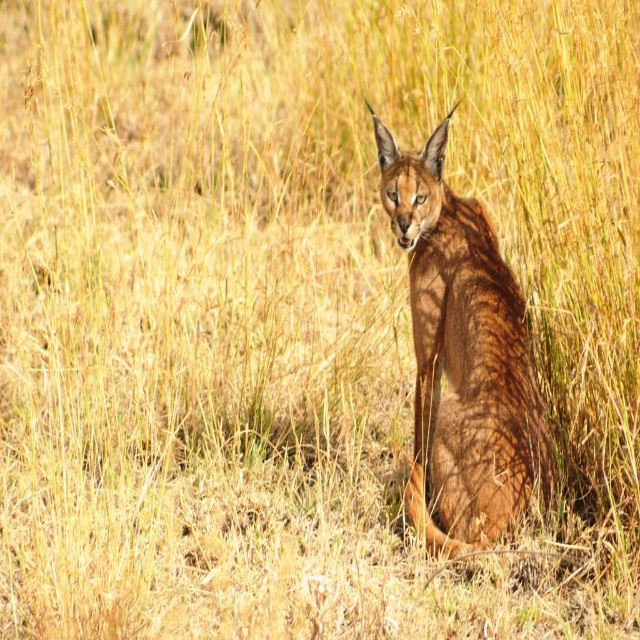Lynx: (363, 94, 563, 565)
